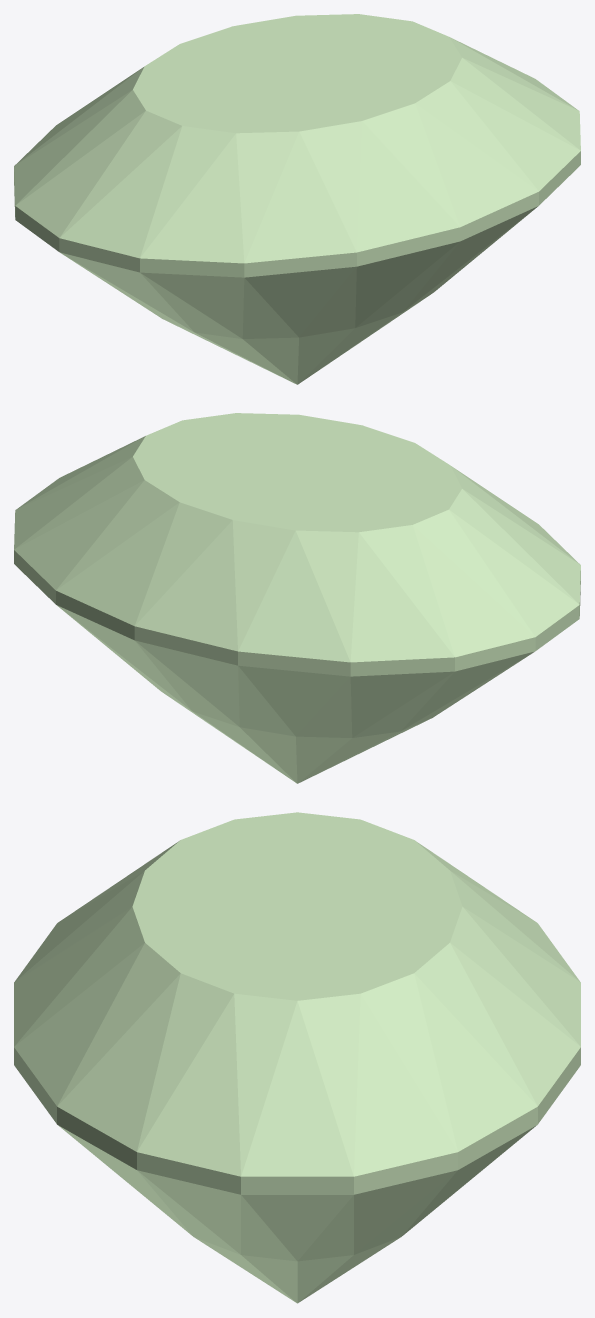
The model's file is prasiolite.glb.
The picture shows the model from 3 angles, top to bottom: view 1: azimuth 30°, elevation 25°; view 2: azimuth 150°, elevation 25°; view 3: azimuth 270°, elevation 25°; orthographic projection. The views are drawn at different scales.
Parts seen in each view (by area): view 1: prasiolite; view 2: prasiolite; view 3: prasiolite.
Boxes of the visible parts, x1,y1,x2,y2 form: prasiolite: [14, 14, 580, 384]; prasiolite: [14, 413, 580, 783]; prasiolite: [14, 812, 580, 1303].
Size of the model in its own units: 0.25 by 0.1429 by 0.185.
